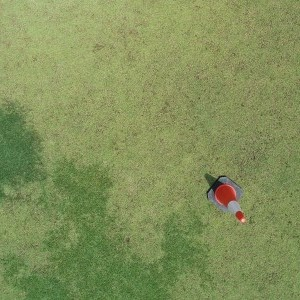traffic cone: (207, 175, 246, 222)
